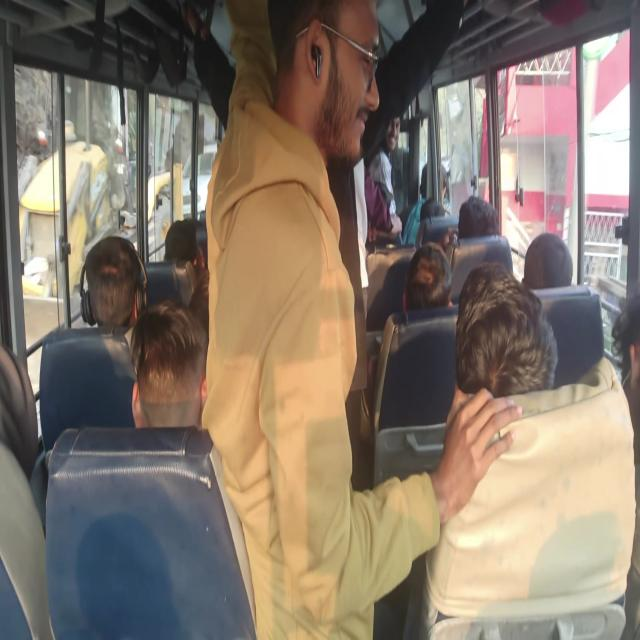person: (0, 334, 53, 636), (274, 18, 370, 180), (128, 299, 208, 428), (464, 272, 550, 388), (80, 246, 148, 328), (446, 236, 515, 302), (404, 239, 456, 321), (612, 294, 640, 442), (523, 232, 574, 292), (159, 212, 206, 270), (456, 195, 500, 239), (382, 112, 408, 158)
